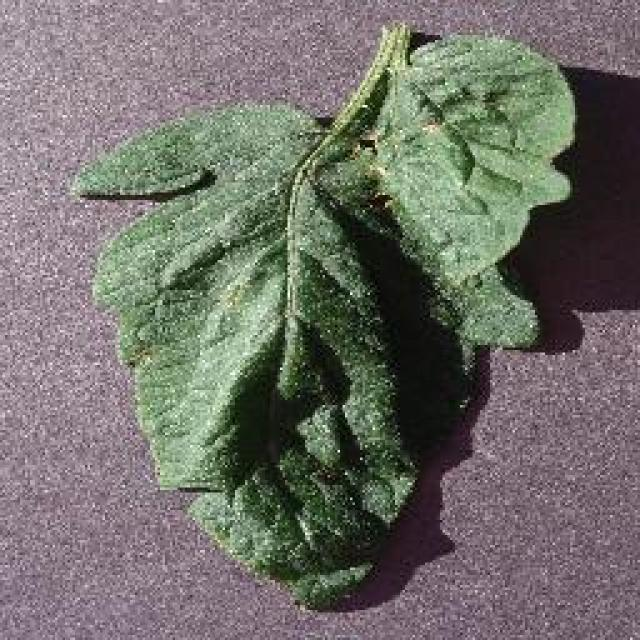Tomato___Target_Spot: (75, 25, 572, 605)
